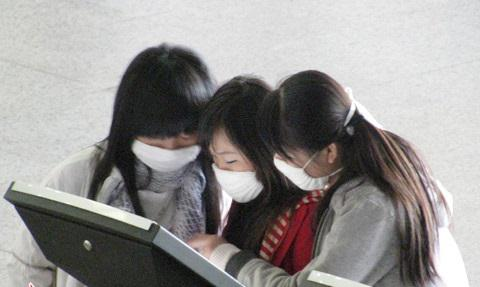OK: (272, 148, 340, 195), (135, 124, 197, 175), (204, 147, 258, 201)
